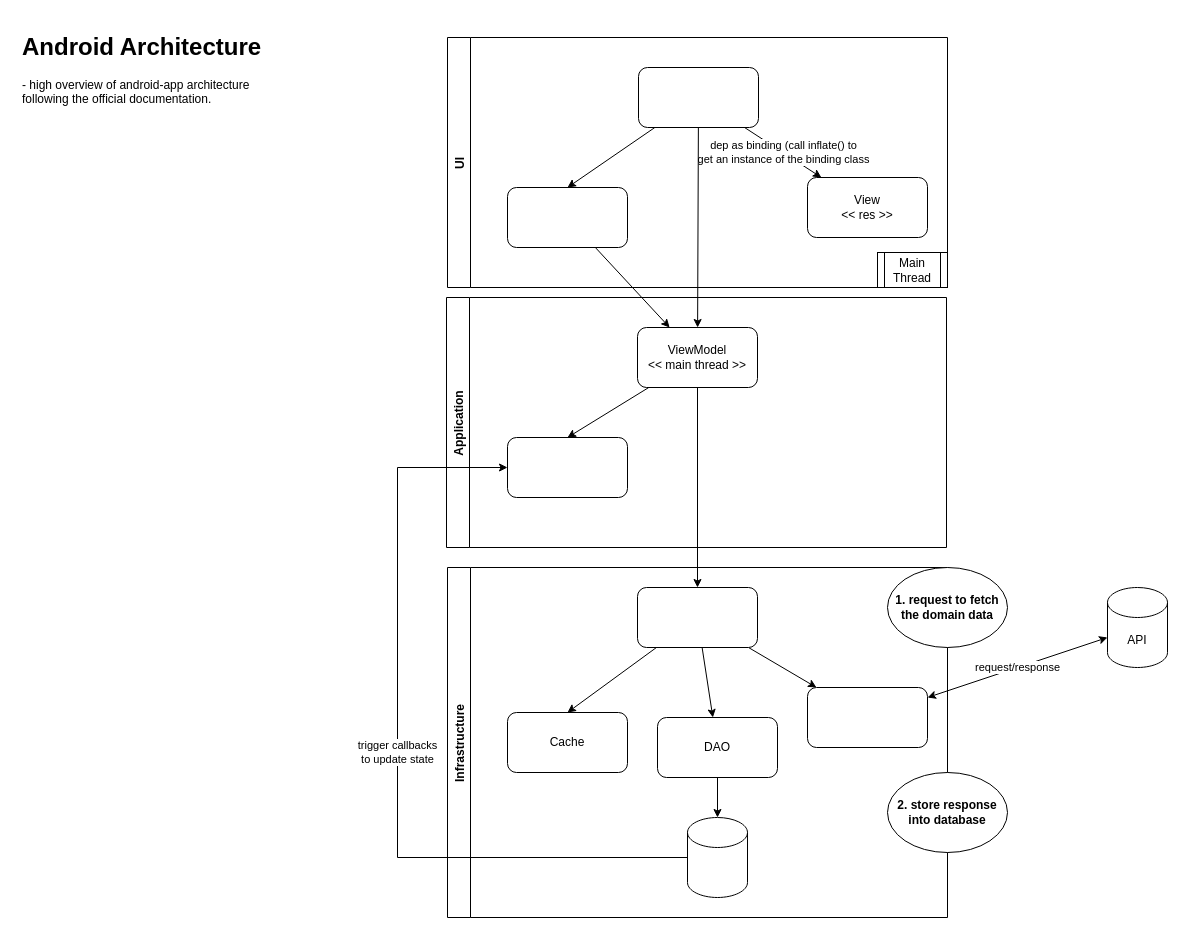
Image size: 1185x935. Some labels were removed from this diagram. The shapes that lost their labels are listed below. From the top down, each one's centre as x and y in pixels, then its label:
[698,97]: Activity
[567,217]: Fragment
[567,467]: Live Data << observer & async >>
[697,617]: Repository
[867,717]: WebService
[717,857]: database
